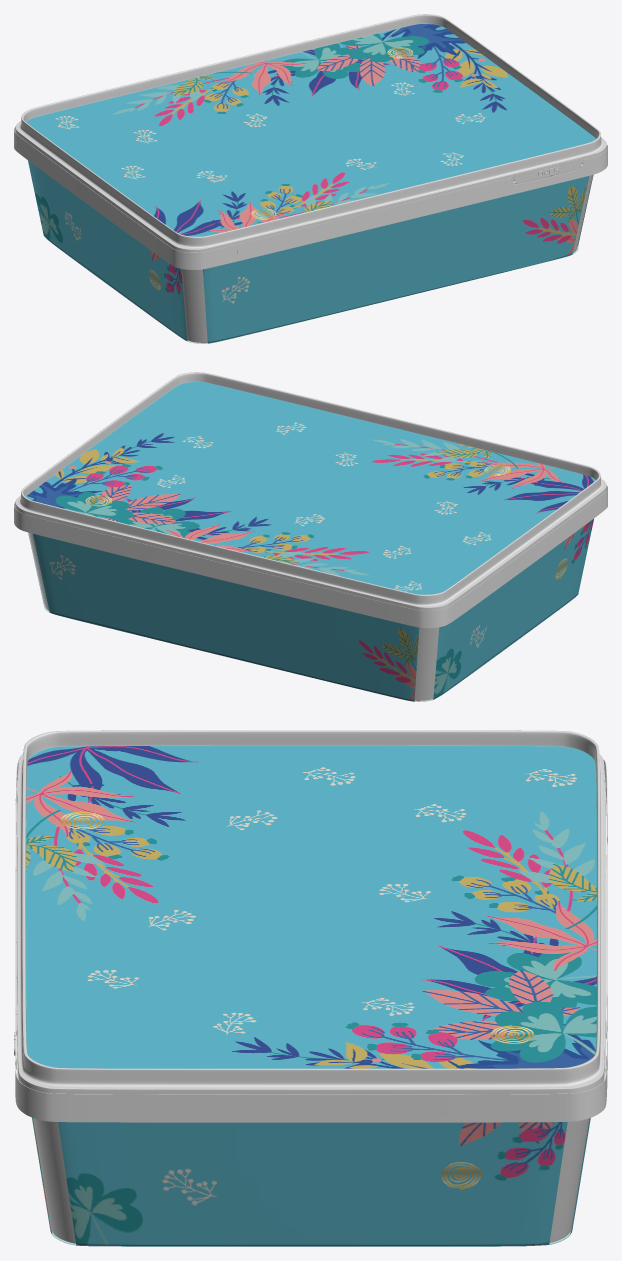
Rendered from 500gms.glb.
3 views of the same model, one above another, from view 1: azimuth 30°, elevation 25°; view 2: azimuth 150°, elevation 25°; view 3: azimuth 270°, elevation 25° (orthographic). The views are drawn at different scales.
Visible parts, largest first — view 1: label lid, label, lID.002, tub, Plane.015; view 2: label lid, label, lID.002, tub; view 3: label lid, label, lID.002, tub.
Boxes of the visible parts, bbox=[...] form: label lid: bbox=[26, 24, 596, 236]; label: bbox=[28, 160, 593, 343]; lID.002: bbox=[15, 14, 606, 252]; tub: bbox=[14, 126, 607, 342]; Plane.015: bbox=[513, 158, 582, 183]; label lid: bbox=[26, 382, 595, 594]; label: bbox=[28, 519, 593, 701]; lID.002: bbox=[15, 372, 606, 610]; tub: bbox=[14, 485, 607, 700]; label lid: bbox=[26, 745, 596, 1068]; label: bbox=[32, 1117, 590, 1246]; lID.002: bbox=[17, 730, 605, 1094]; tub: bbox=[15, 759, 607, 1243].
Bounding box in the file's own units: 0.1862 × 0.0473 × 0.1343.
Materials: 8 (4 with a texture image).
